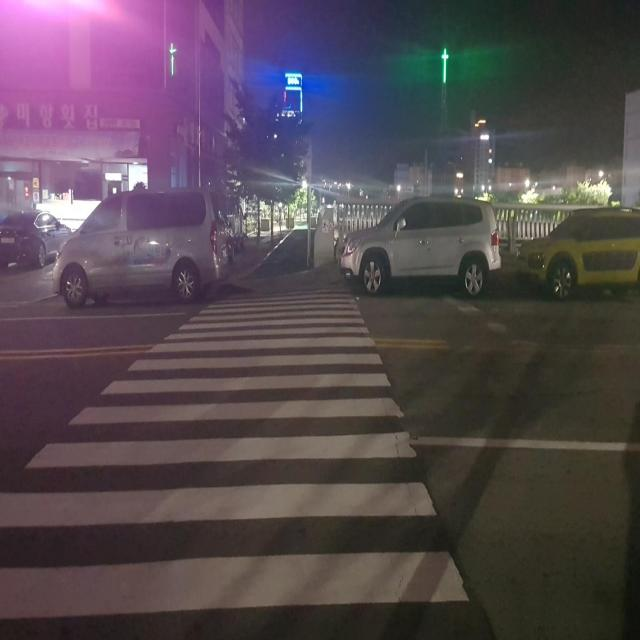횡단보도: (0, 287, 471, 623)
